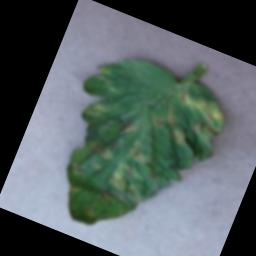Leaf_Mold: (170, 80, 234, 128), (103, 154, 155, 205), (167, 112, 221, 157), (84, 127, 125, 163), (148, 95, 184, 135), (79, 97, 111, 124), (96, 183, 129, 208), (113, 115, 141, 142), (127, 138, 154, 166), (62, 156, 88, 181)
